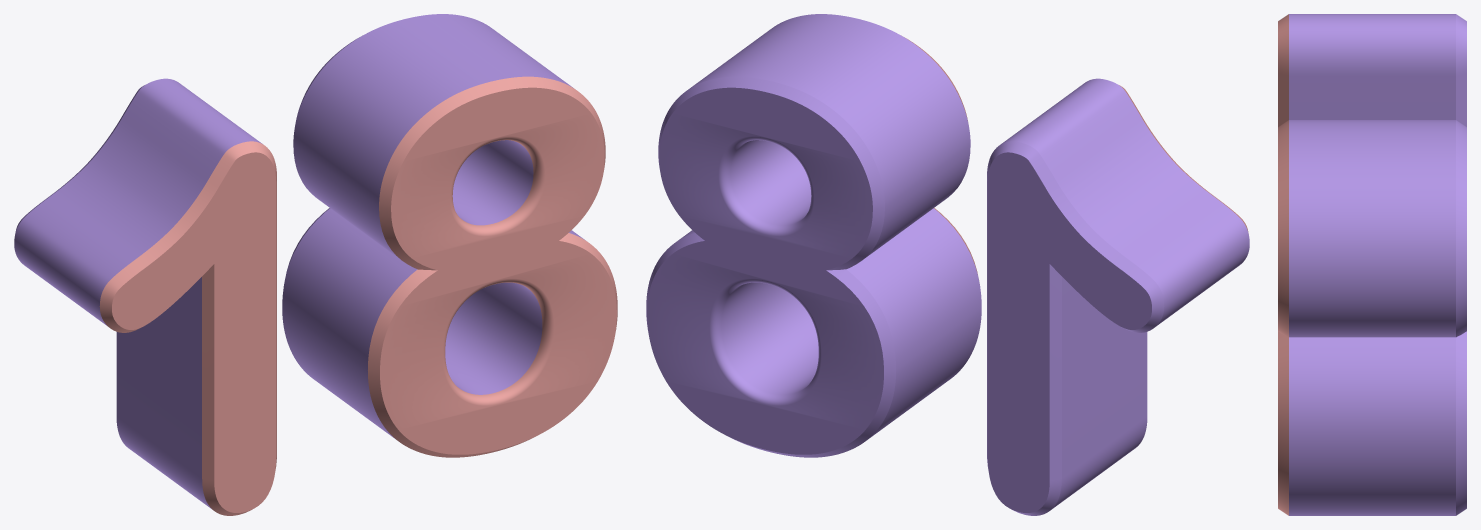
3 renders of one model, left to right at view 1: azimuth 30°, elevation 25°; view 2: azimuth 150°, elevation 25°; view 3: azimuth 270°, elevation 25°, orthographic. The views are drawn at different scales.
Visible parts, largest first — view 1: Text.019; view 2: Text.019; view 3: Text.019.
Part boxes in pixels (x1,y1,x2,y2): Text.019: (14,14,617,515); Text.019: (646,14,1249,515); Text.019: (1278,14,1466,515).
Bounding box in the file's own units: 240 × 164 × 77.6.
